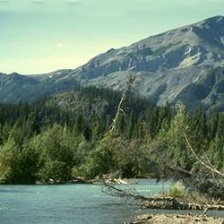neutral: (2, 5, 223, 223)
